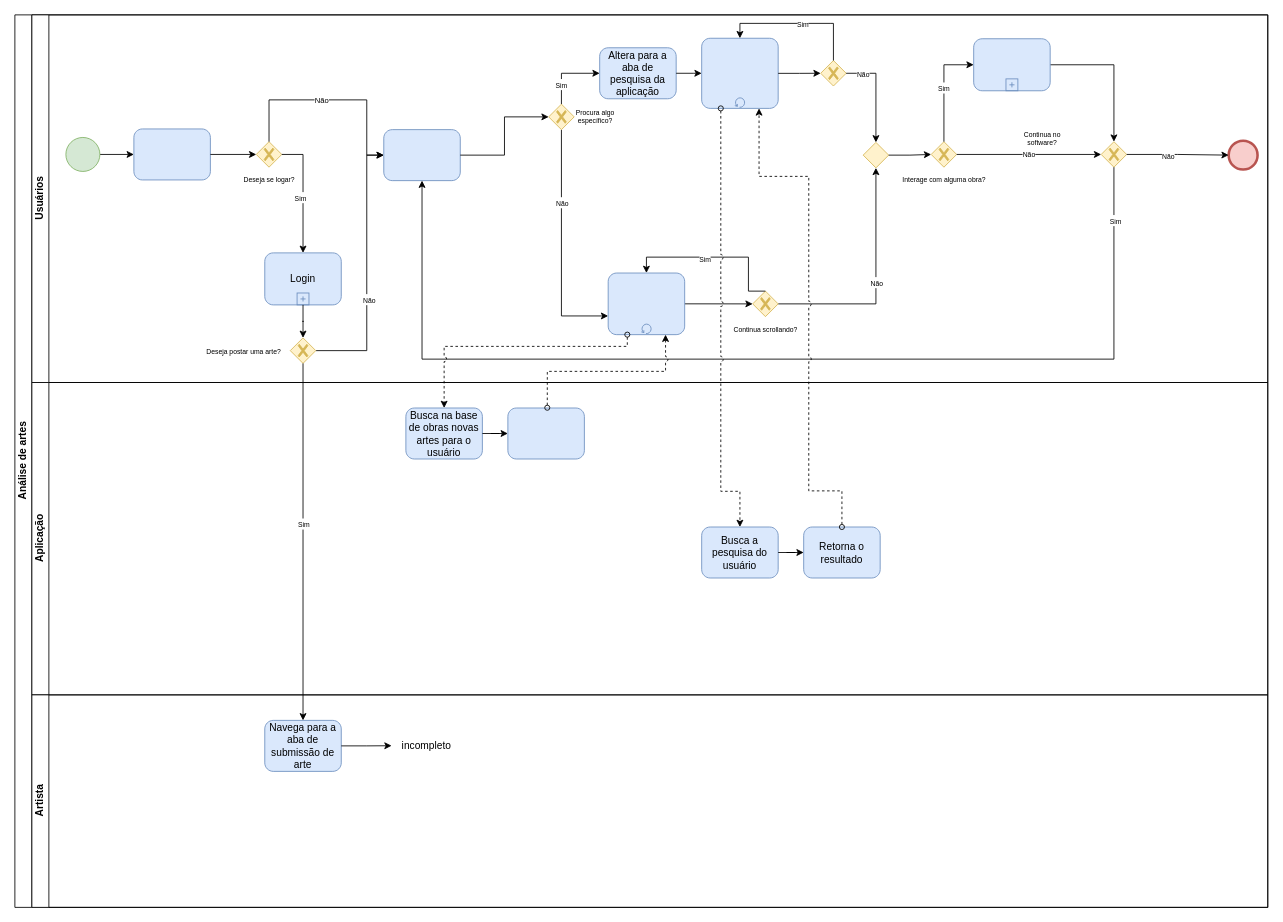
Some shapes in this 1283 by 922 pixel diagram are drawn without their labels. The shapes that lost their labels are listed below. From the top down, each one's centre as x and y in pixels, then its label:
point 739,72: Pesquisa sobre um tema ou artista especifico
point 833,73: Continua pesquisando?
point 1011,64: Interage com a obra
point 171,154: Acessa o site da aplicação
point 421,155: Navega pela landingpage
point 646,303: Continua a scrollar pela landingpage
point 545,433: Disponibiliza mais artes para o usuário
